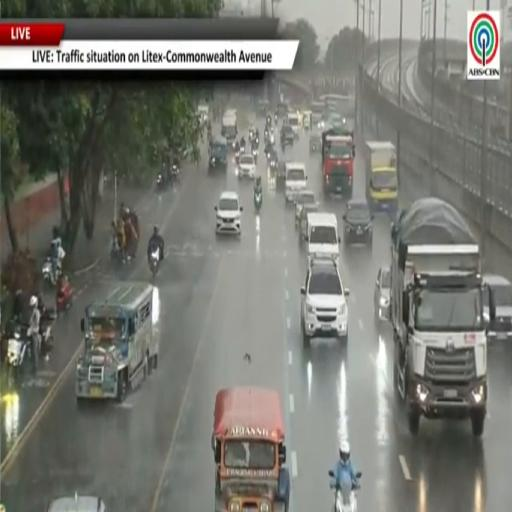car: (301, 260, 349, 347), (483, 275, 511, 340), (343, 200, 373, 247), (215, 191, 242, 235), (47, 494, 106, 511), (374, 267, 390, 324), (298, 203, 319, 245), (285, 163, 307, 203), (295, 189, 316, 223), (238, 154, 255, 179), (280, 124, 294, 147), (276, 162, 287, 189), (309, 134, 321, 154)
jeepney: (76, 282, 158, 402), (212, 387, 289, 511)
motorcycle: (6, 326, 31, 379), (331, 480, 359, 511), (39, 308, 56, 351), (42, 255, 61, 285), (111, 235, 124, 263), (150, 248, 160, 277), (156, 173, 167, 190), (254, 190, 262, 213), (171, 165, 181, 181), (269, 158, 278, 172), (252, 148, 258, 164), (248, 130, 255, 142), (266, 116, 272, 127), (264, 130, 269, 143), (235, 151, 239, 165), (255, 136, 259, 146), (275, 114, 278, 124)
truck: (390, 198, 495, 436), (364, 141, 398, 214), (321, 128, 355, 198), (222, 109, 238, 150)
